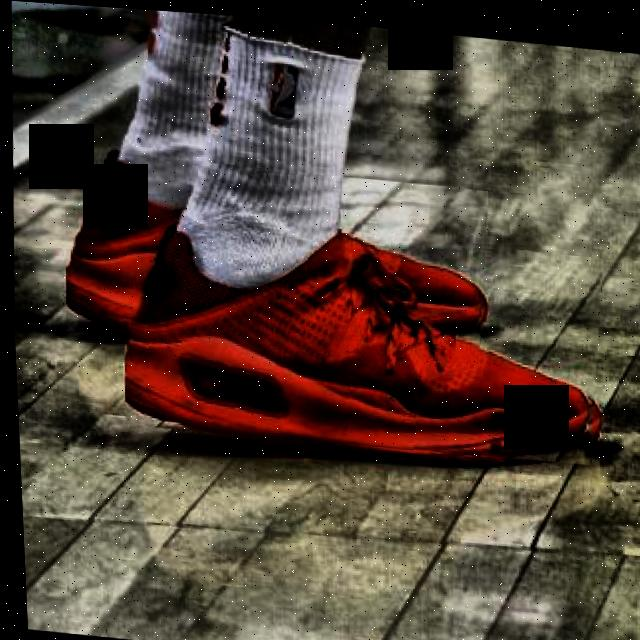shoe: (114, 207, 609, 466), (57, 146, 493, 368)
